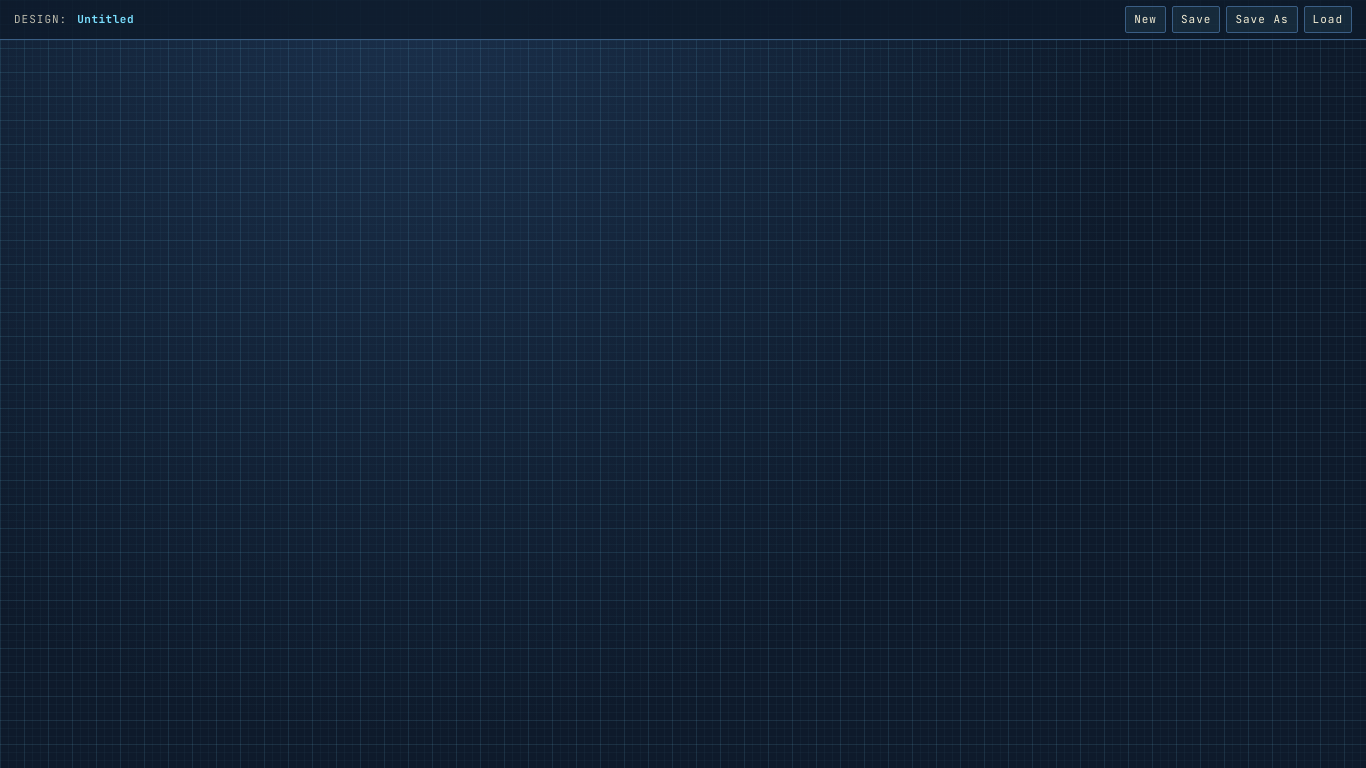
Test: SaveLoadBar › clicking Save when no name opens Save As dialog
The image size is (1366, 768).
Click the button "Save" at [1196, 19], box [1172,6,1220,32]
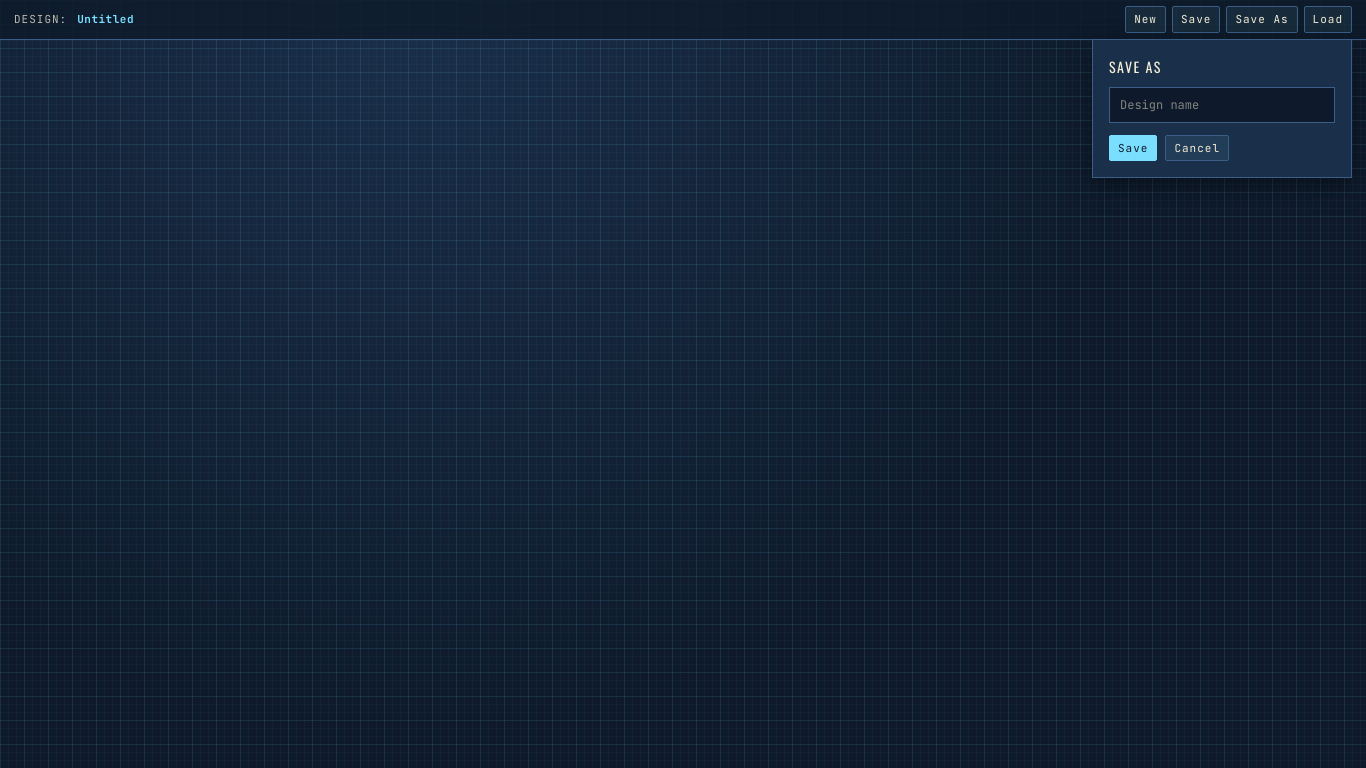
expect the field with placeholder "Design name" is shown: met, box [1109,86,1335,122]
